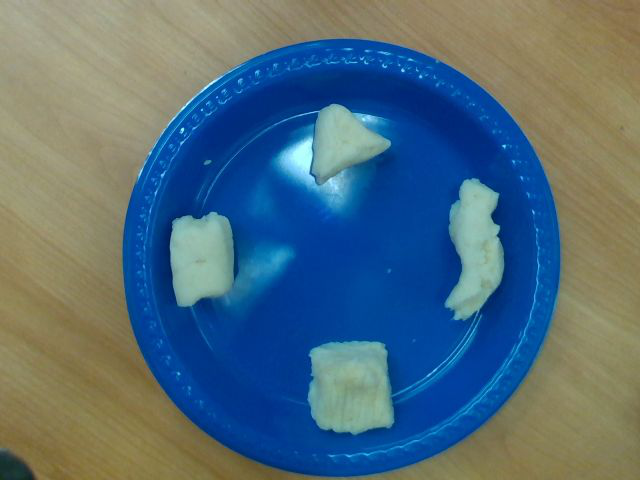mashed_potato: (446, 179, 505, 319), (308, 341, 394, 433), (170, 212, 233, 308), (312, 104, 389, 180)
